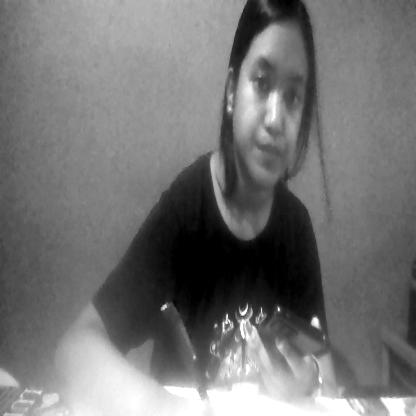Normal: (220, 6, 330, 214)
